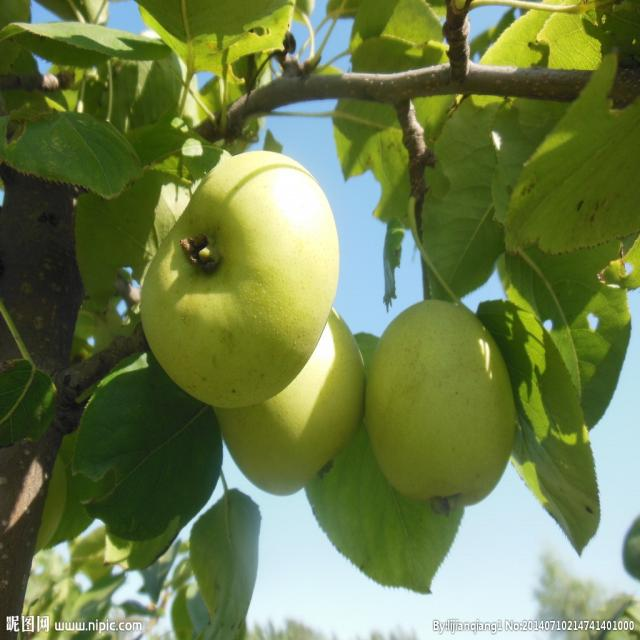Green Apple: (146, 150, 337, 400), (213, 289, 372, 494), (367, 307, 522, 510)
